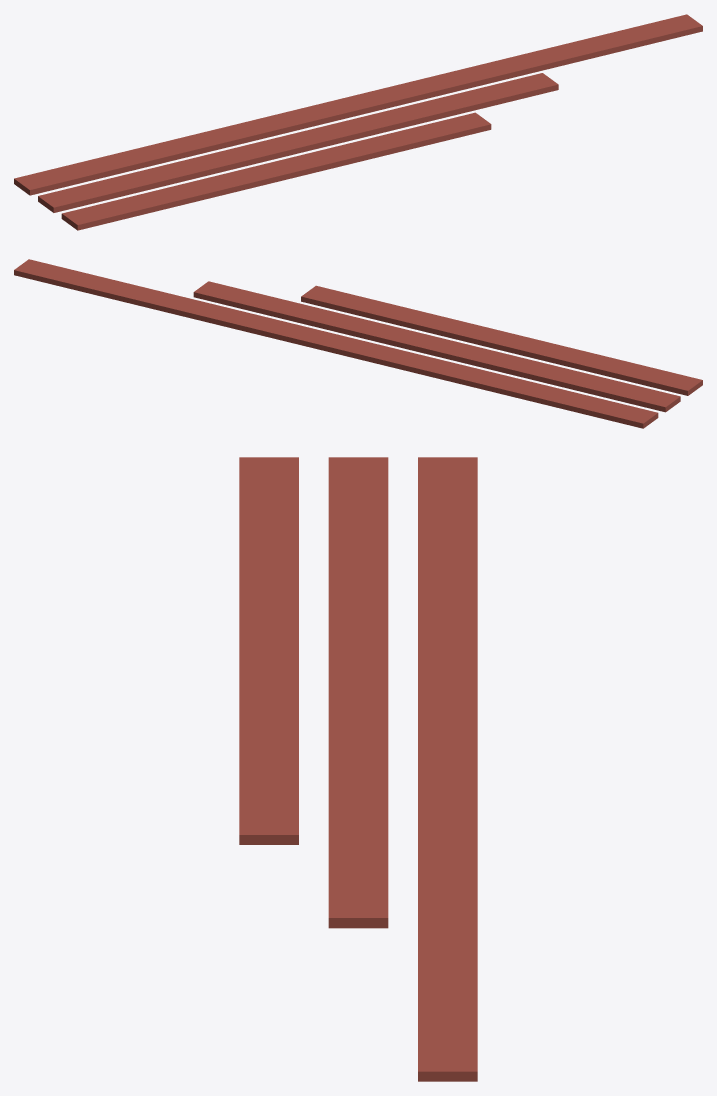
File: deck-board-200x38_carvalho_v0.1.dae
3 views of the same model, one above another, from view 1: azimuth 30°, elevation 25°; view 2: azimuth 150°, elevation 25°; view 3: azimuth 270°, elevation 25° (orthographic). The views are drawn at different scales.
Parts seen in each view (by area): view 1: deck-board-200x38_deck-board-200x38_carvalho_4880mm, deck-board-200x38_deck-board-200x38_carvalho_3660mm, deck-board-200x38_deck-board-200x38_carvalho_3000mm; view 2: deck-board-200x38_deck-board-200x38_carvalho_4880mm, deck-board-200x38_deck-board-200x38_carvalho_3660mm, deck-board-200x38_deck-board-200x38_carvalho_3000mm; view 3: deck-board-200x38_deck-board-200x38_carvalho_4880mm, deck-board-200x38_deck-board-200x38_carvalho_3660mm, deck-board-200x38_deck-board-200x38_carvalho_3000mm.
Boxes of the visible parts, box(x1,y1,x2,y2) form: deck-board-200x38_deck-board-200x38_carvalho_4880mm: box(14, 14, 702, 195); deck-board-200x38_deck-board-200x38_carvalho_3660mm: box(38, 73, 558, 212); deck-board-200x38_deck-board-200x38_carvalho_3000mm: box(61, 112, 491, 230); deck-board-200x38_deck-board-200x38_carvalho_4880mm: box(14, 259, 658, 428); deck-board-200x38_deck-board-200x38_carvalho_3660mm: box(193, 281, 680, 412); deck-board-200x38_deck-board-200x38_carvalho_3000mm: box(301, 285, 702, 395); deck-board-200x38_deck-board-200x38_carvalho_4880mm: box(418, 457, 477, 1081); deck-board-200x38_deck-board-200x38_carvalho_3660mm: box(328, 457, 388, 928); deck-board-200x38_deck-board-200x38_carvalho_3000mm: box(239, 457, 298, 844).
Size of the model in its own units: 4880 by 800 by 38.
